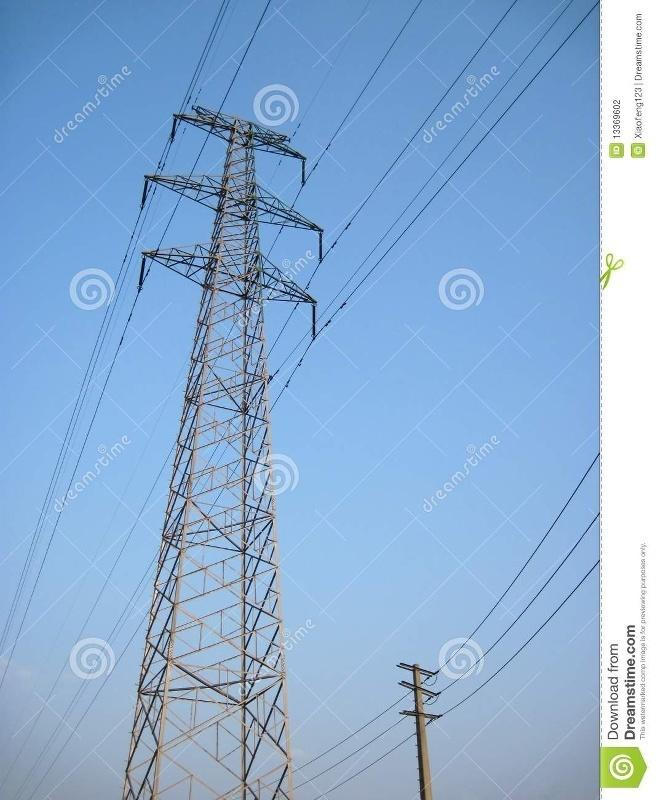power_tower: (136, 93, 310, 716)
